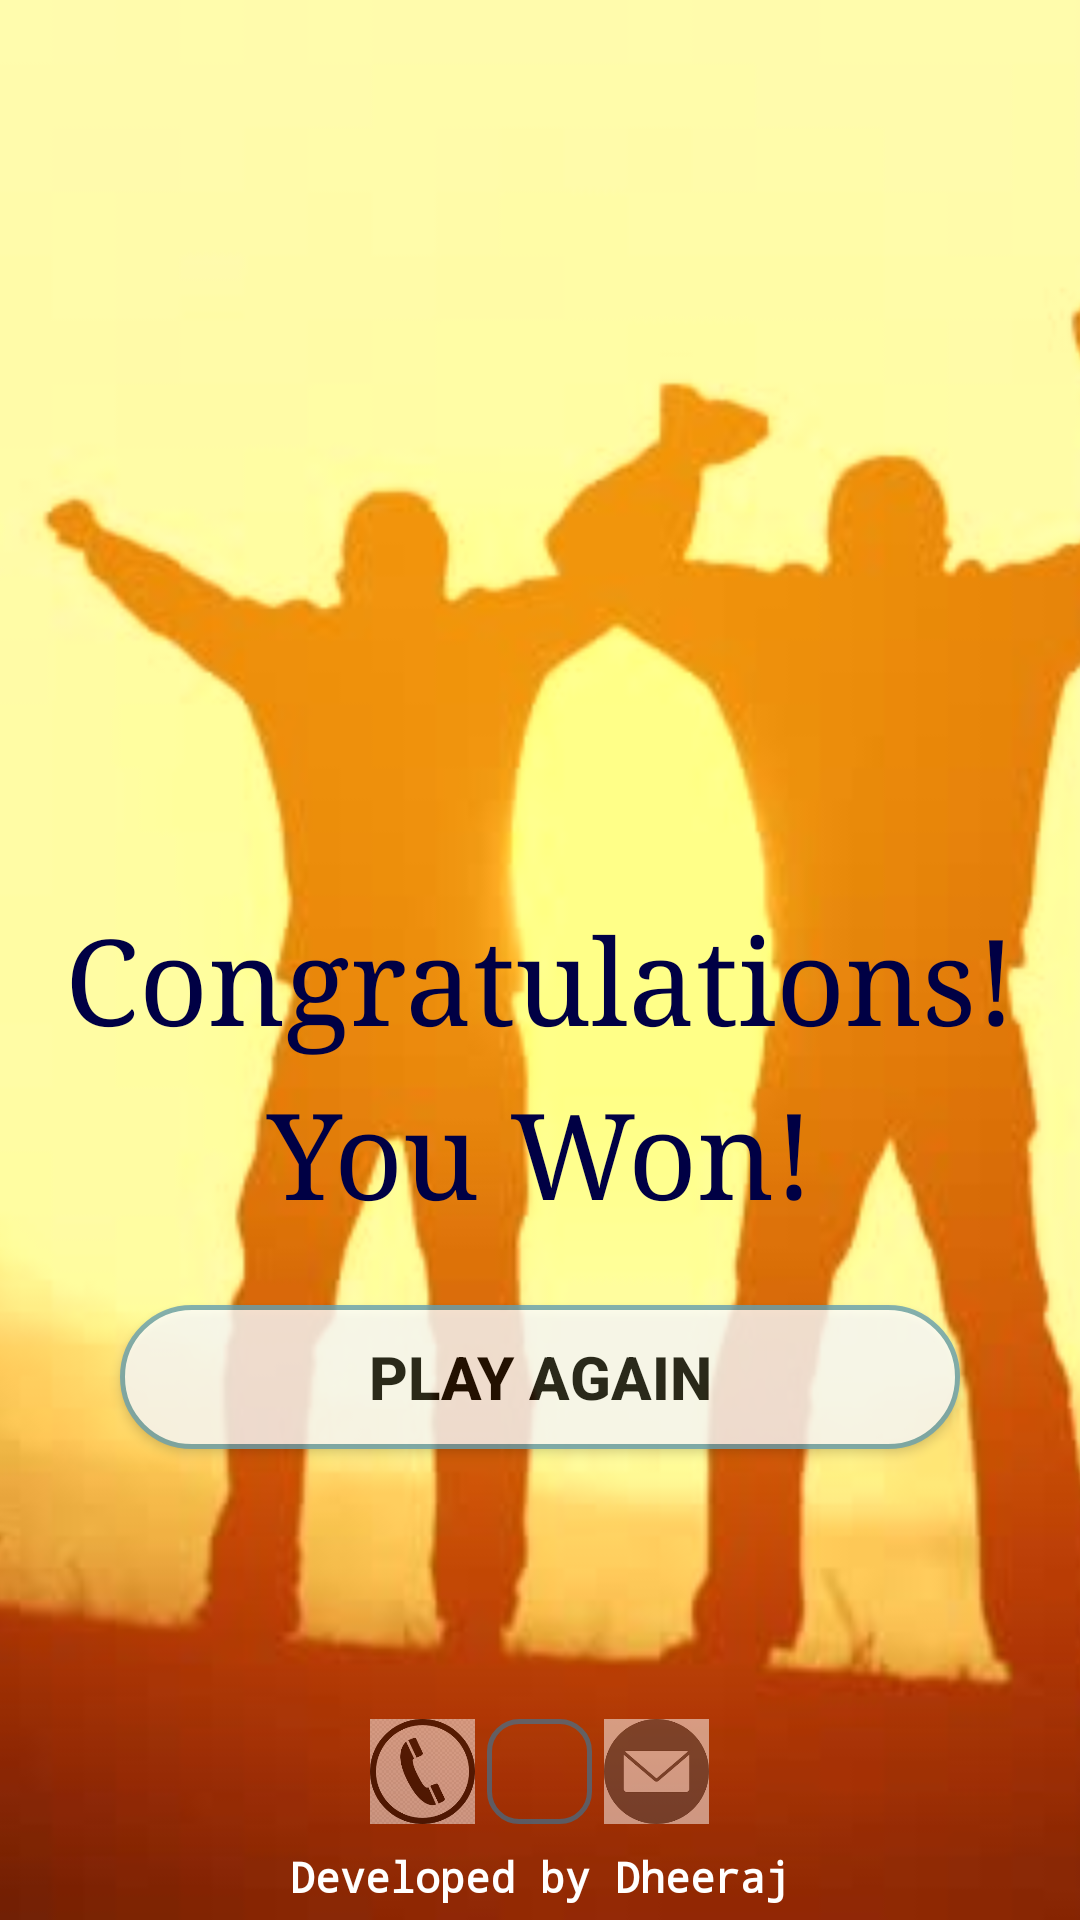

Icon bounding boxes for this 1080 x 1920 phone screenshot, format [left=x1, top=y1, right=x2, bottom=y2]:
call: [left=370, top=1719, right=475, bottom=1824]
